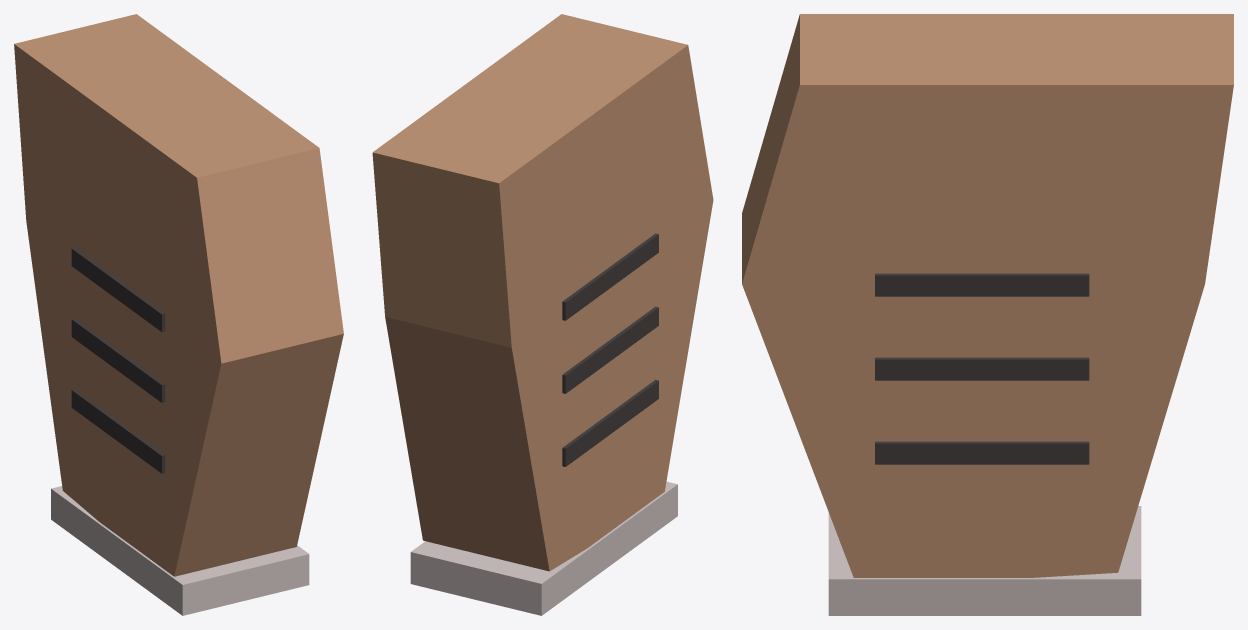
The model's file is drum_pistol_grip.glb.
3 renders of one model, left to right at view 1: azimuth 30°, elevation 25°; view 2: azimuth 150°, elevation 25°; view 3: azimuth 270°, elevation 25°, orthographic. The views are drawn at different scales.
Parts seen in each view (by area): view 1: grip; view 2: grip; view 3: grip.
Boxes of the visible parts, <box> form: grip: <box>14,14,343,615</box>; grip: <box>372,14,713,615</box>; grip: <box>742,14,1233,615</box>.
Size of the model in its own units: 0.0306 by 0.101 by 0.085.
